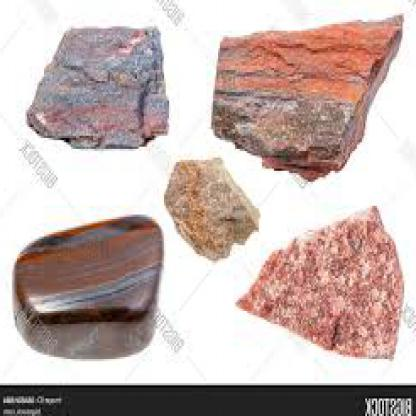Metamorphic_Quartize: (210, 2, 406, 169), (228, 195, 413, 366), (8, 202, 159, 362), (17, 17, 169, 146), (168, 151, 262, 256)
